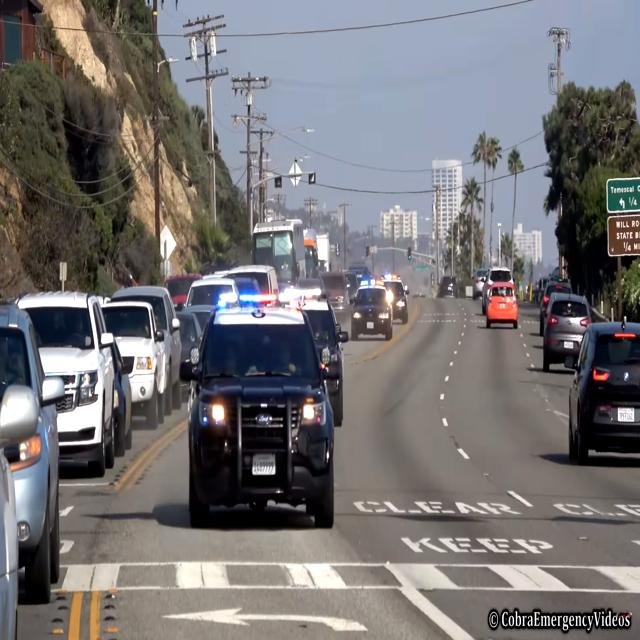emergency-vehicles: (173, 291, 349, 542), (333, 278, 402, 342), (369, 269, 415, 320)
